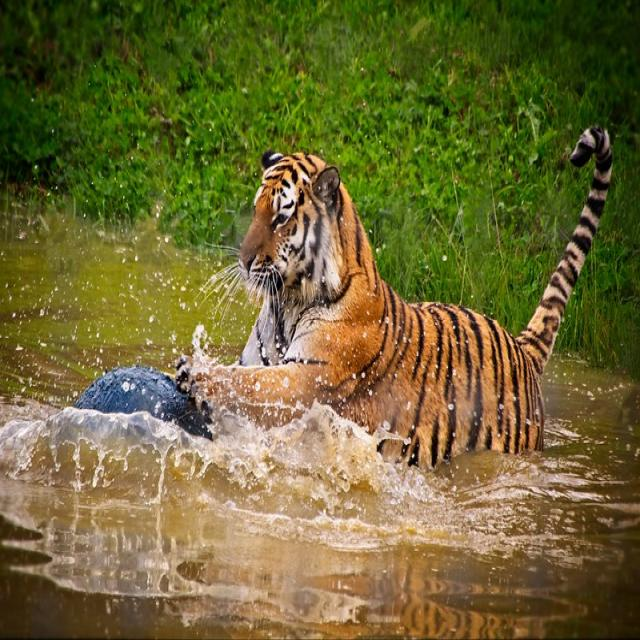Tiger: (184, 122, 610, 466)
